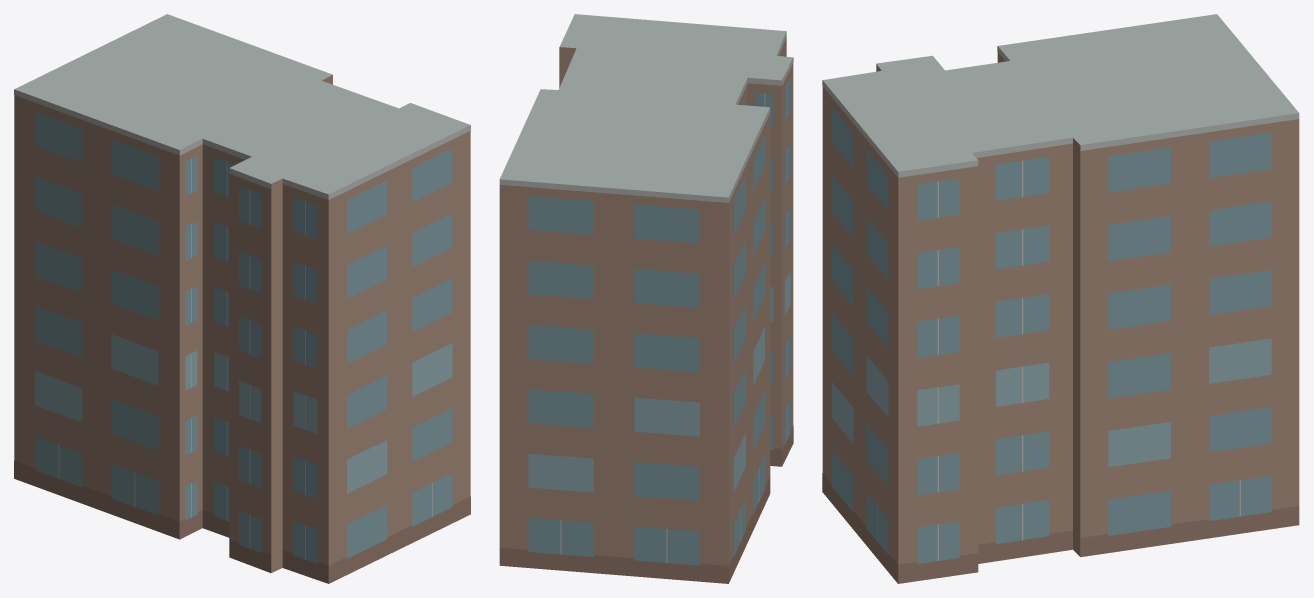
Rendered from survey-upis-32744966.glb.
The picture shows the model from 3 angles, left to right: view 1: azimuth 30°, elevation 25°; view 2: azimuth 150°, elevation 25°; view 3: azimuth 270°, elevation 25°; orthographic projection. The views are drawn at different scales.
Visible parts, largest first — view 1: survey-upis-32744966.tmp; view 2: survey-upis-32744966.tmp; view 3: survey-upis-32744966.tmp.
Part boxes in pixels (<box>): survey-upis-32744966.tmp: <box>14,14,470,583</box>; survey-upis-32744966.tmp: <box>499,14,793,583</box>; survey-upis-32744966.tmp: <box>822,14,1299,583</box>.
Bounding box in the file's own units: 14.15 × 17.2 × 18.05.
